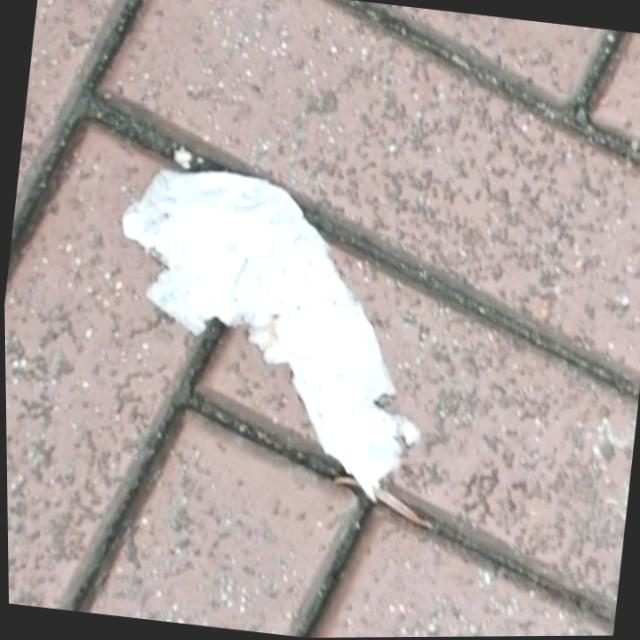Paper: (84, 153, 452, 508)
